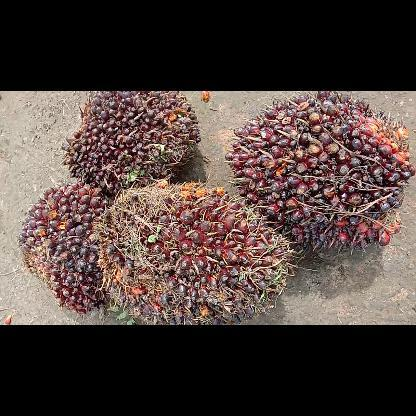Kurang masak: (224, 91, 416, 256), (91, 178, 295, 324), (61, 91, 200, 199), (18, 181, 112, 313)
